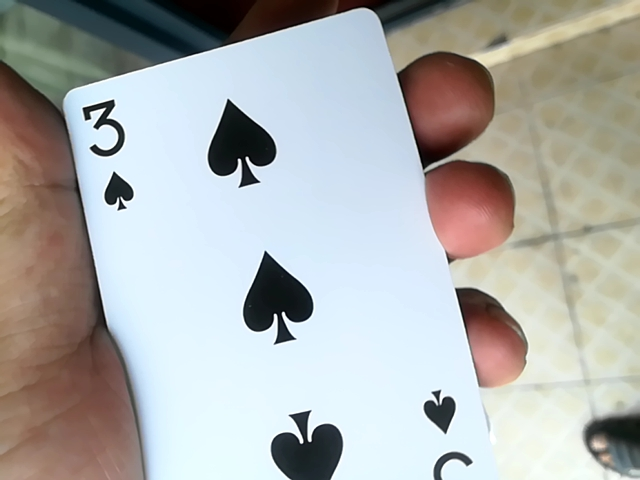ht 3: (70, 21, 484, 480)
